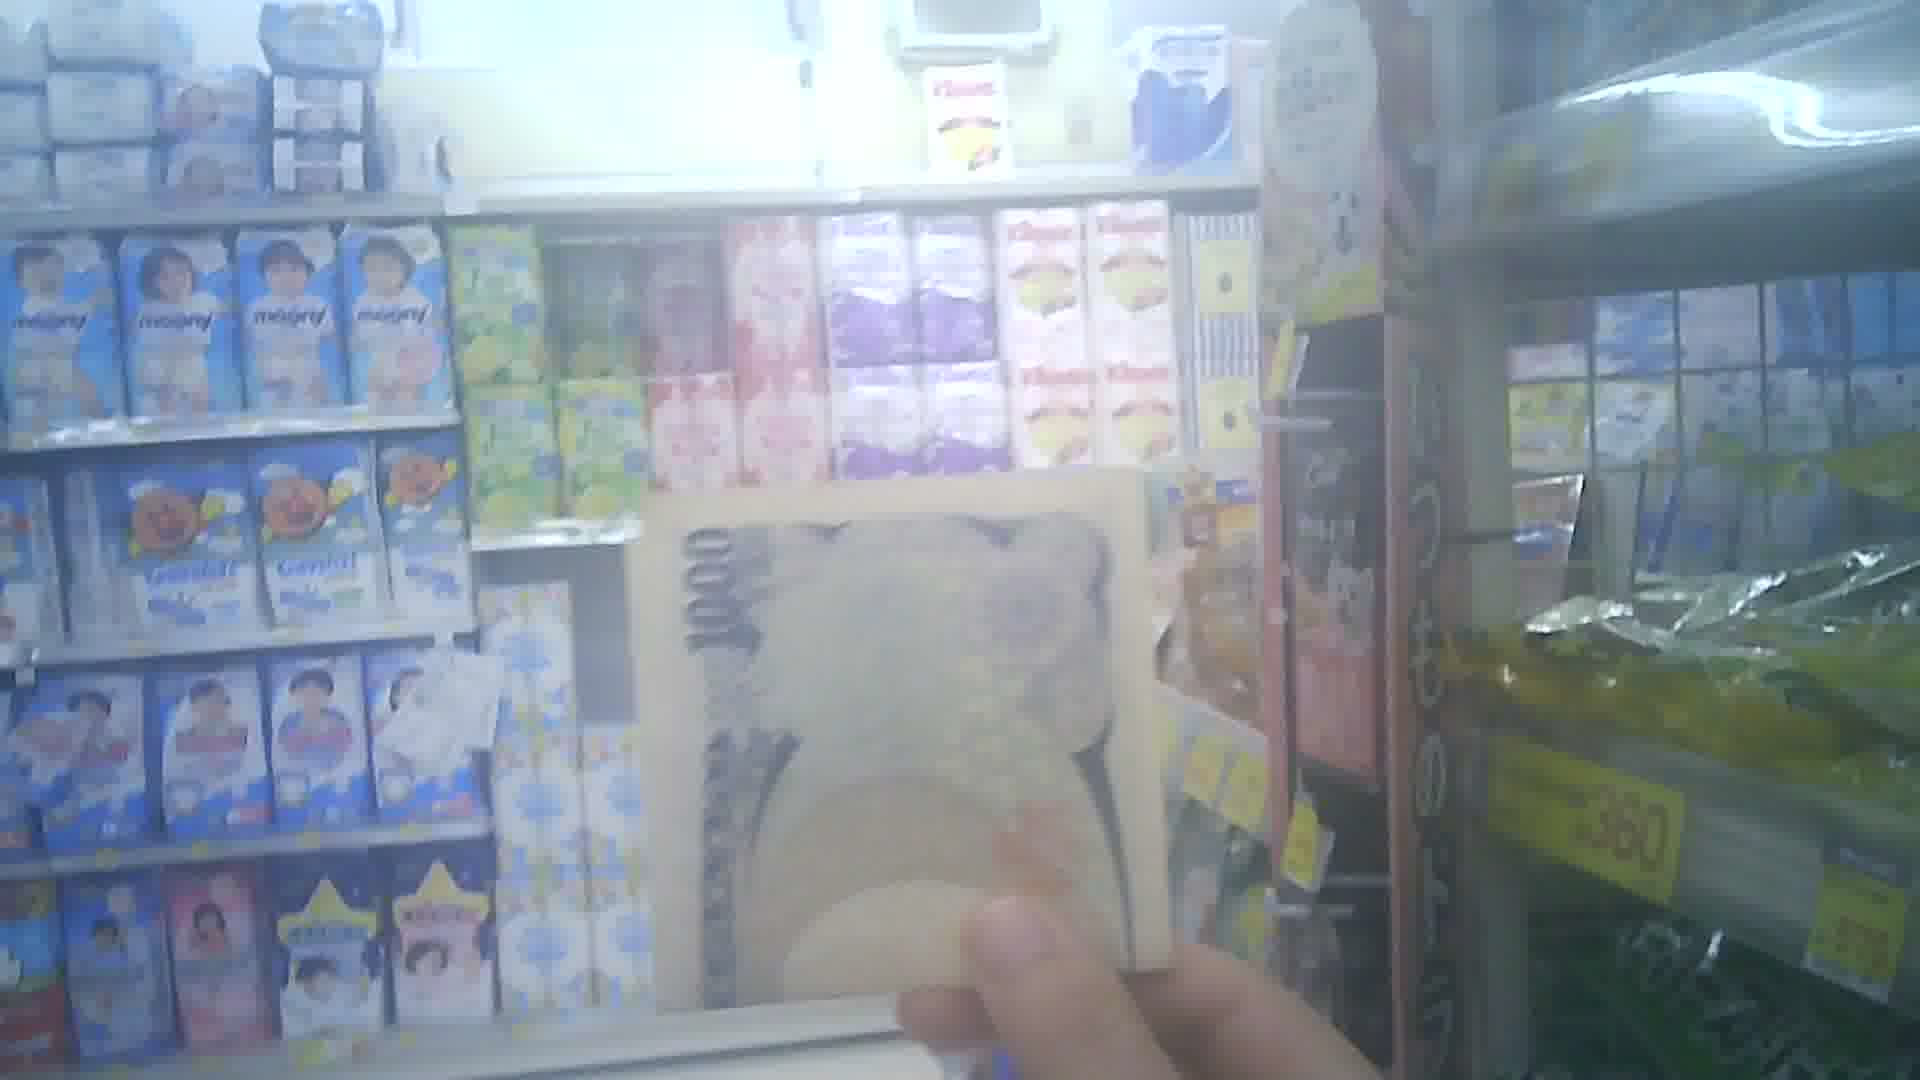1,000 Yen: (640, 475, 1164, 1019)
